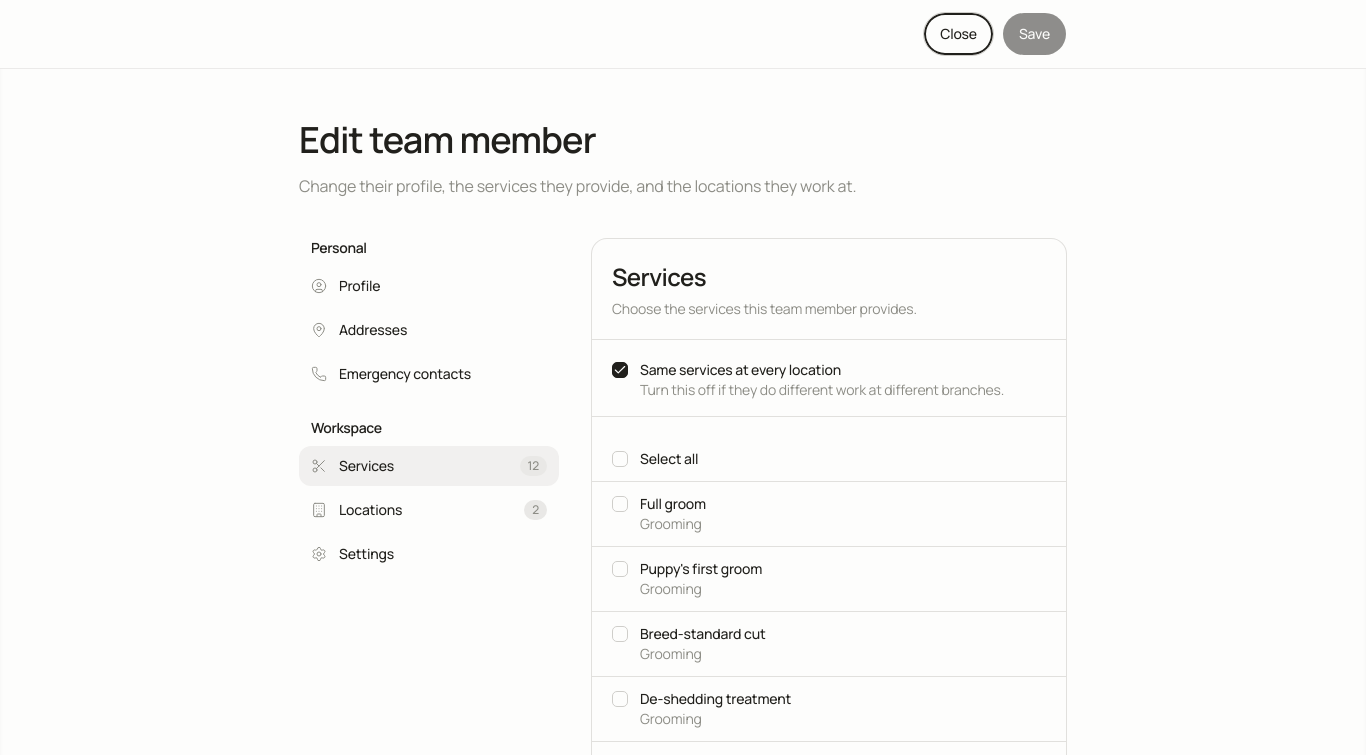
Test case: the Services section › reveals the branches they hold once the lists differ
What coordinates should you click on to do the following:
click the checkbox named "Same services at every location" next to "Same services at every location"
I would click on:
 (620, 370)
Its box is [612,362,628,378].
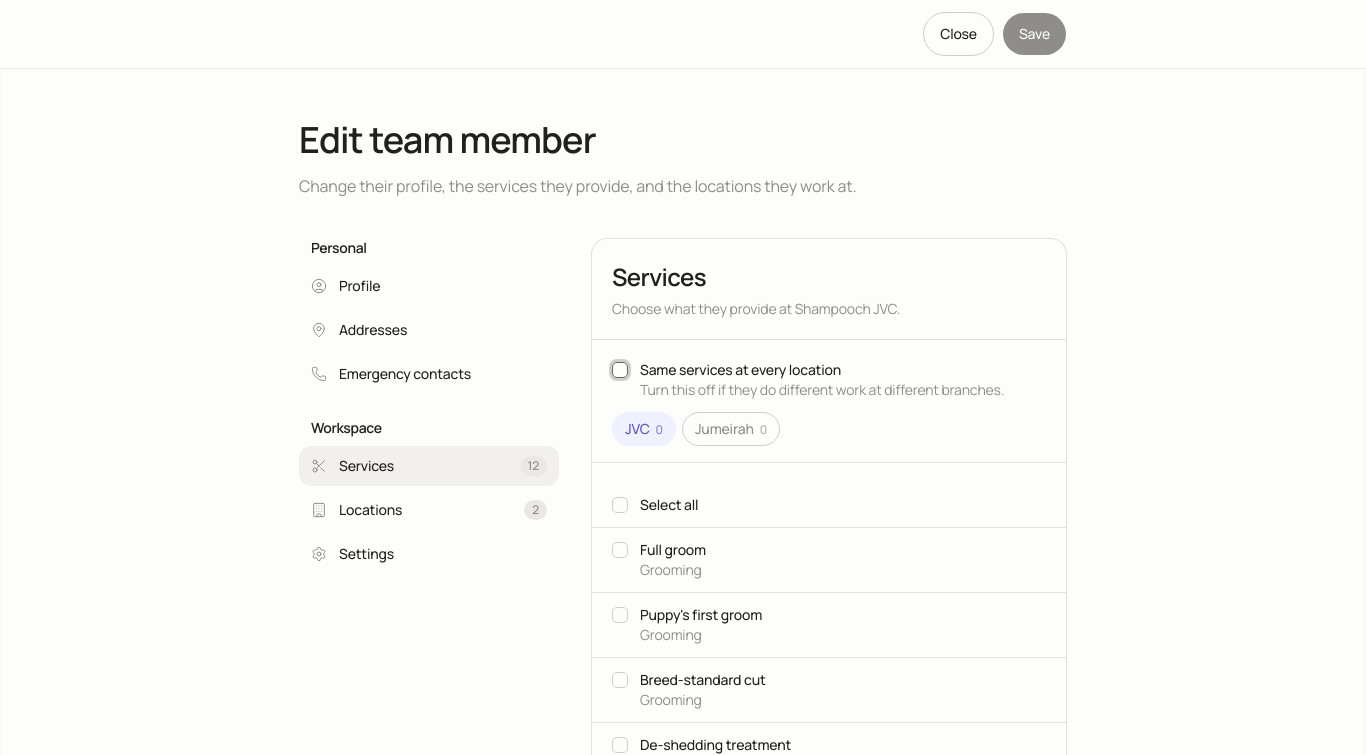
Check: the button "JVC0" is shown, box [612,412,676,446]
Check: the button "Jumeirah0" is shown, box [682,412,780,446]
